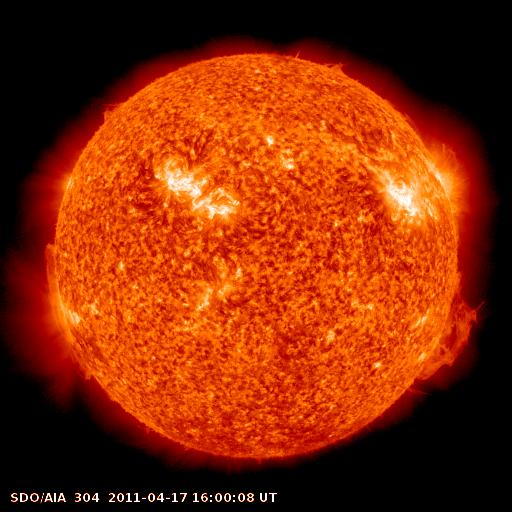prominence: (402, 266, 486, 399), (39, 237, 93, 387), (94, 88, 129, 129), (320, 51, 354, 81)
